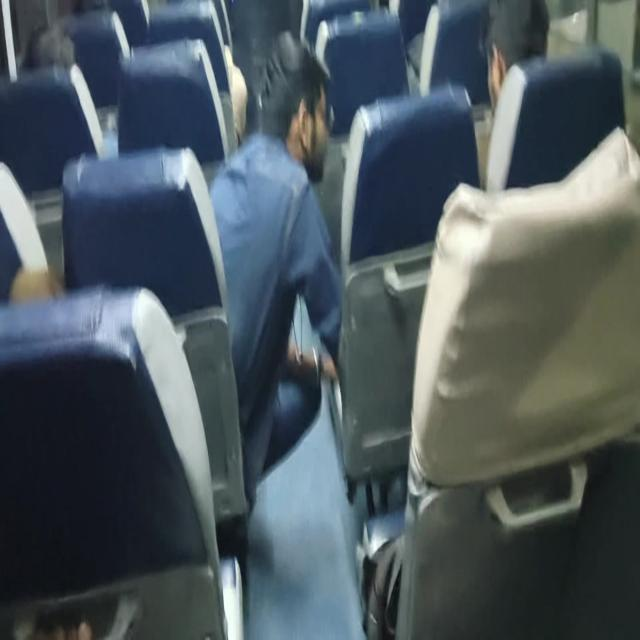person: (481, 21, 554, 117), (277, 57, 326, 165), (26, 20, 78, 77)
